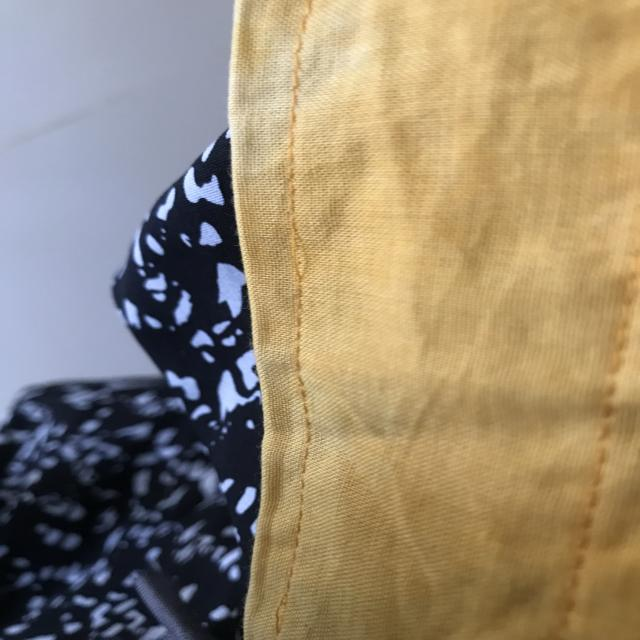skip: (277, 213, 319, 290)
